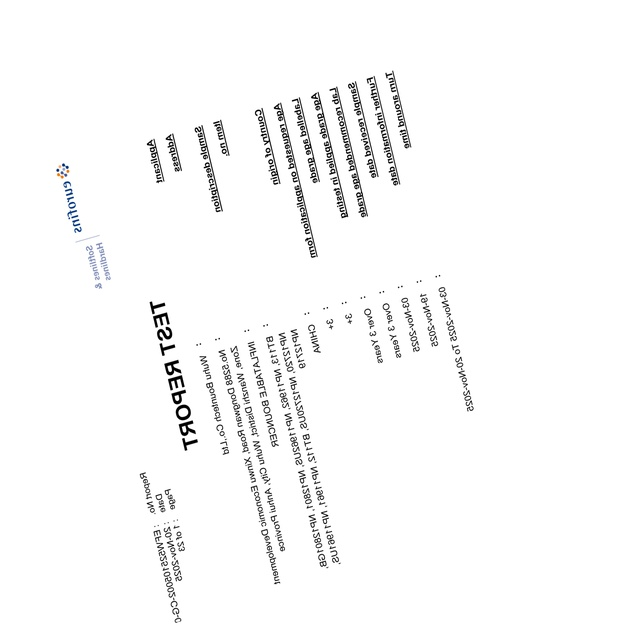eurofins: (46, 158, 92, 240)
